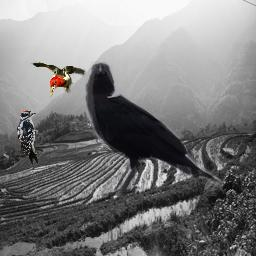Crow: (83, 61, 219, 196)
Woodpecker: (29, 59, 86, 98), (16, 110, 38, 165)
